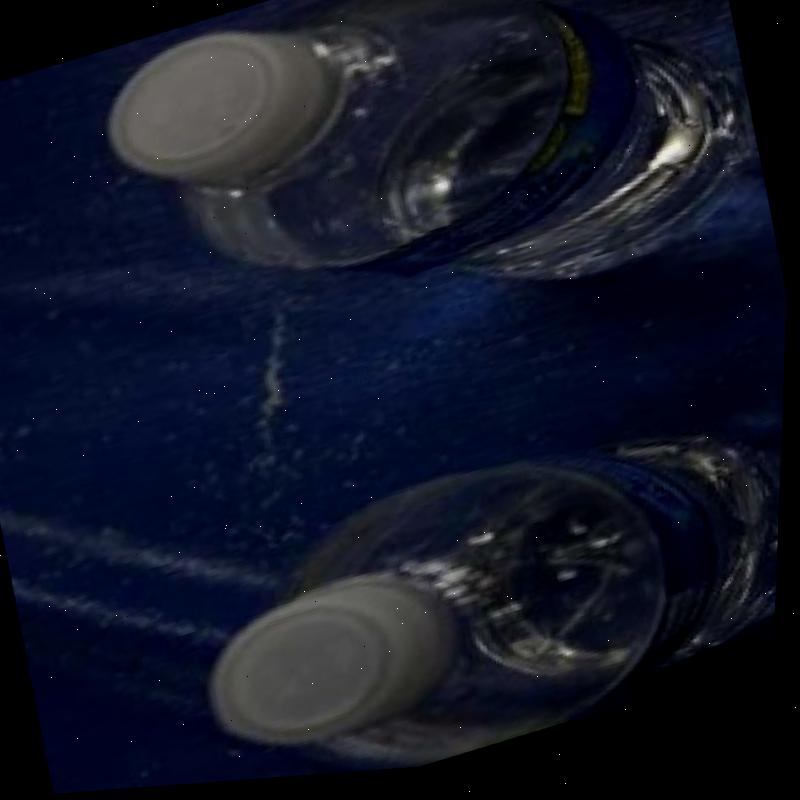botella: (84, 0, 783, 416), (175, 382, 788, 788)
